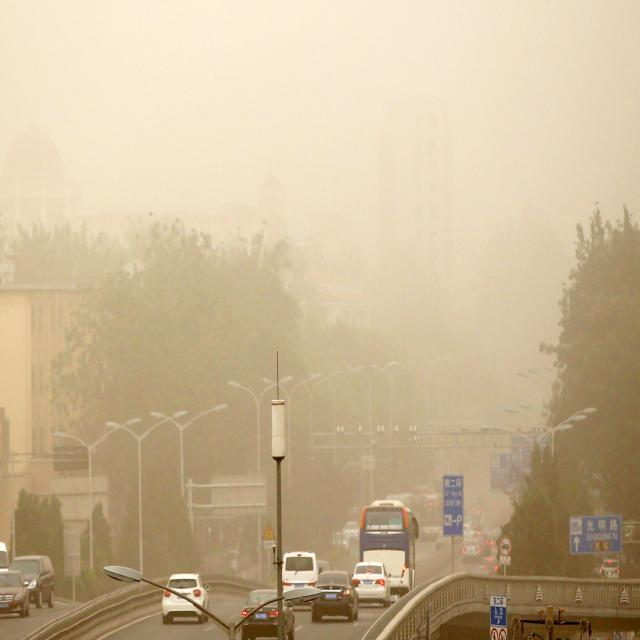car: (233, 592, 307, 640), (161, 572, 210, 624), (11, 555, 55, 609), (310, 579, 360, 623), (352, 561, 391, 607), (282, 553, 316, 605), (0, 569, 32, 619), (472, 530, 493, 557), (462, 539, 482, 563), (344, 520, 360, 544), (600, 559, 619, 578)
truck: (361, 500, 418, 595), (411, 492, 444, 538)
